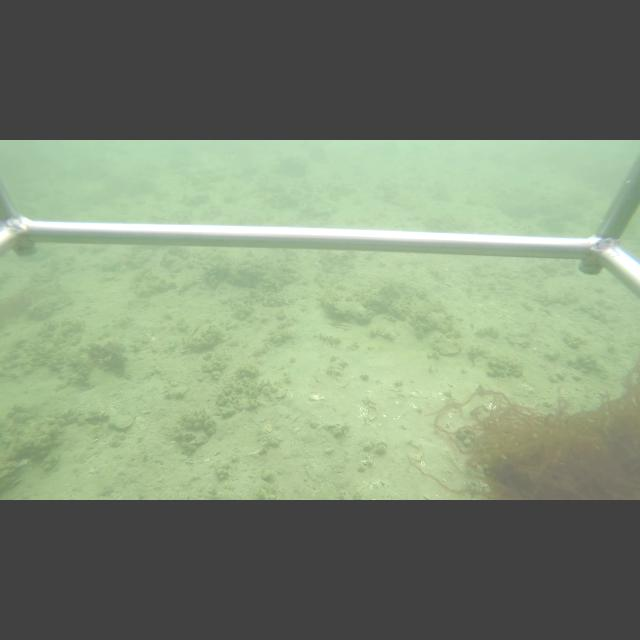Oyster-Closed: (316, 297, 378, 327)
